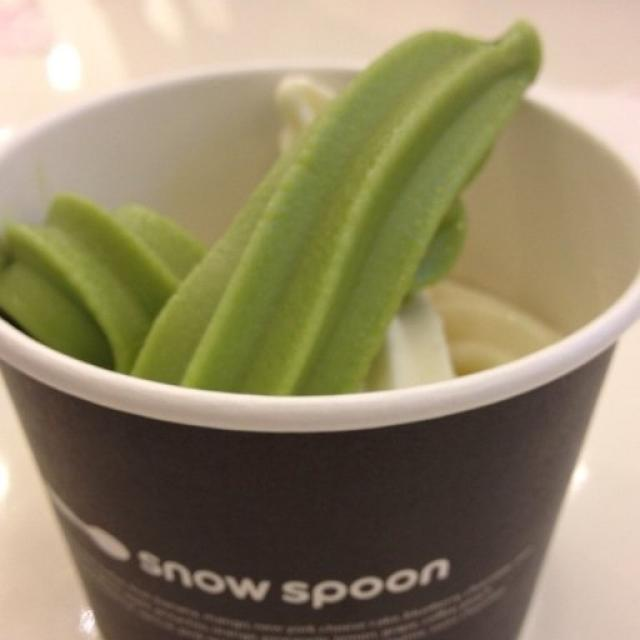Food -Biodegradable-: (0, 10, 574, 394)
